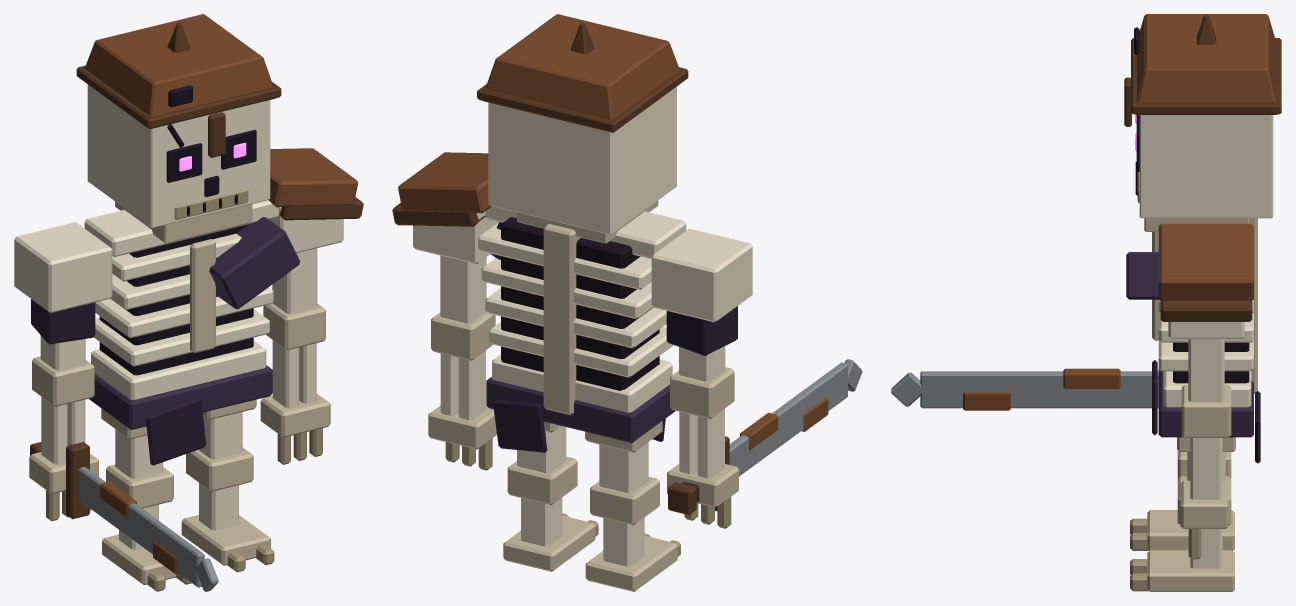
The model's file is myw_zombieskeleton.glb.
3 views of the same model, side by side, from view 1: azimuth 30°, elevation 25°; view 2: azimuth 150°, elevation 25°; view 3: azimuth 270°, elevation 25° (orthographic). The views are drawn at different scales.
Visible parts, largest first — view 1: Torso, Head, LeftArm, RightArm, Hat, LeftLeg, Sword, RightLeg; view 2: Torso, Head, LeftArm, RightArm, Hat, RightLeg, LeftLeg, Sword; view 3: LeftArm, Hat, Head, Sword, Torso, LeftLeg, RightLeg.
Boxes of the visible parts, x1,y1,x2,y2 form: Torso: [84, 200, 300, 465]; Head: [87, 84, 270, 243]; LeftArm: [260, 148, 363, 464]; RightArm: [14, 222, 112, 521]; Hat: [76, 14, 281, 157]; LeftLeg: [181, 399, 274, 572]; Sword: [30, 442, 218, 591]; RightLeg: [101, 408, 191, 591]; Torso: [478, 206, 686, 452]; Head: [488, 86, 676, 243]; LeftArm: [392, 152, 498, 470]; RightArm: [651, 228, 752, 528]; Hat: [477, 14, 688, 132]; RightLeg: [585, 421, 680, 591]; LeftLeg: [503, 421, 598, 571]; Sword: [668, 359, 862, 514]; LeftArm: [1158, 223, 1253, 559]; Hat: [1124, 14, 1281, 126]; Head: [1135, 114, 1273, 231]; Sword: [891, 368, 1158, 410]; Torso: [1126, 218, 1260, 463]; LeftLeg: [1130, 437, 1235, 591]; RightLeg: [1130, 450, 1234, 550].
Size of the model in its own units: 3.9 by 6.34 by 4.09.
